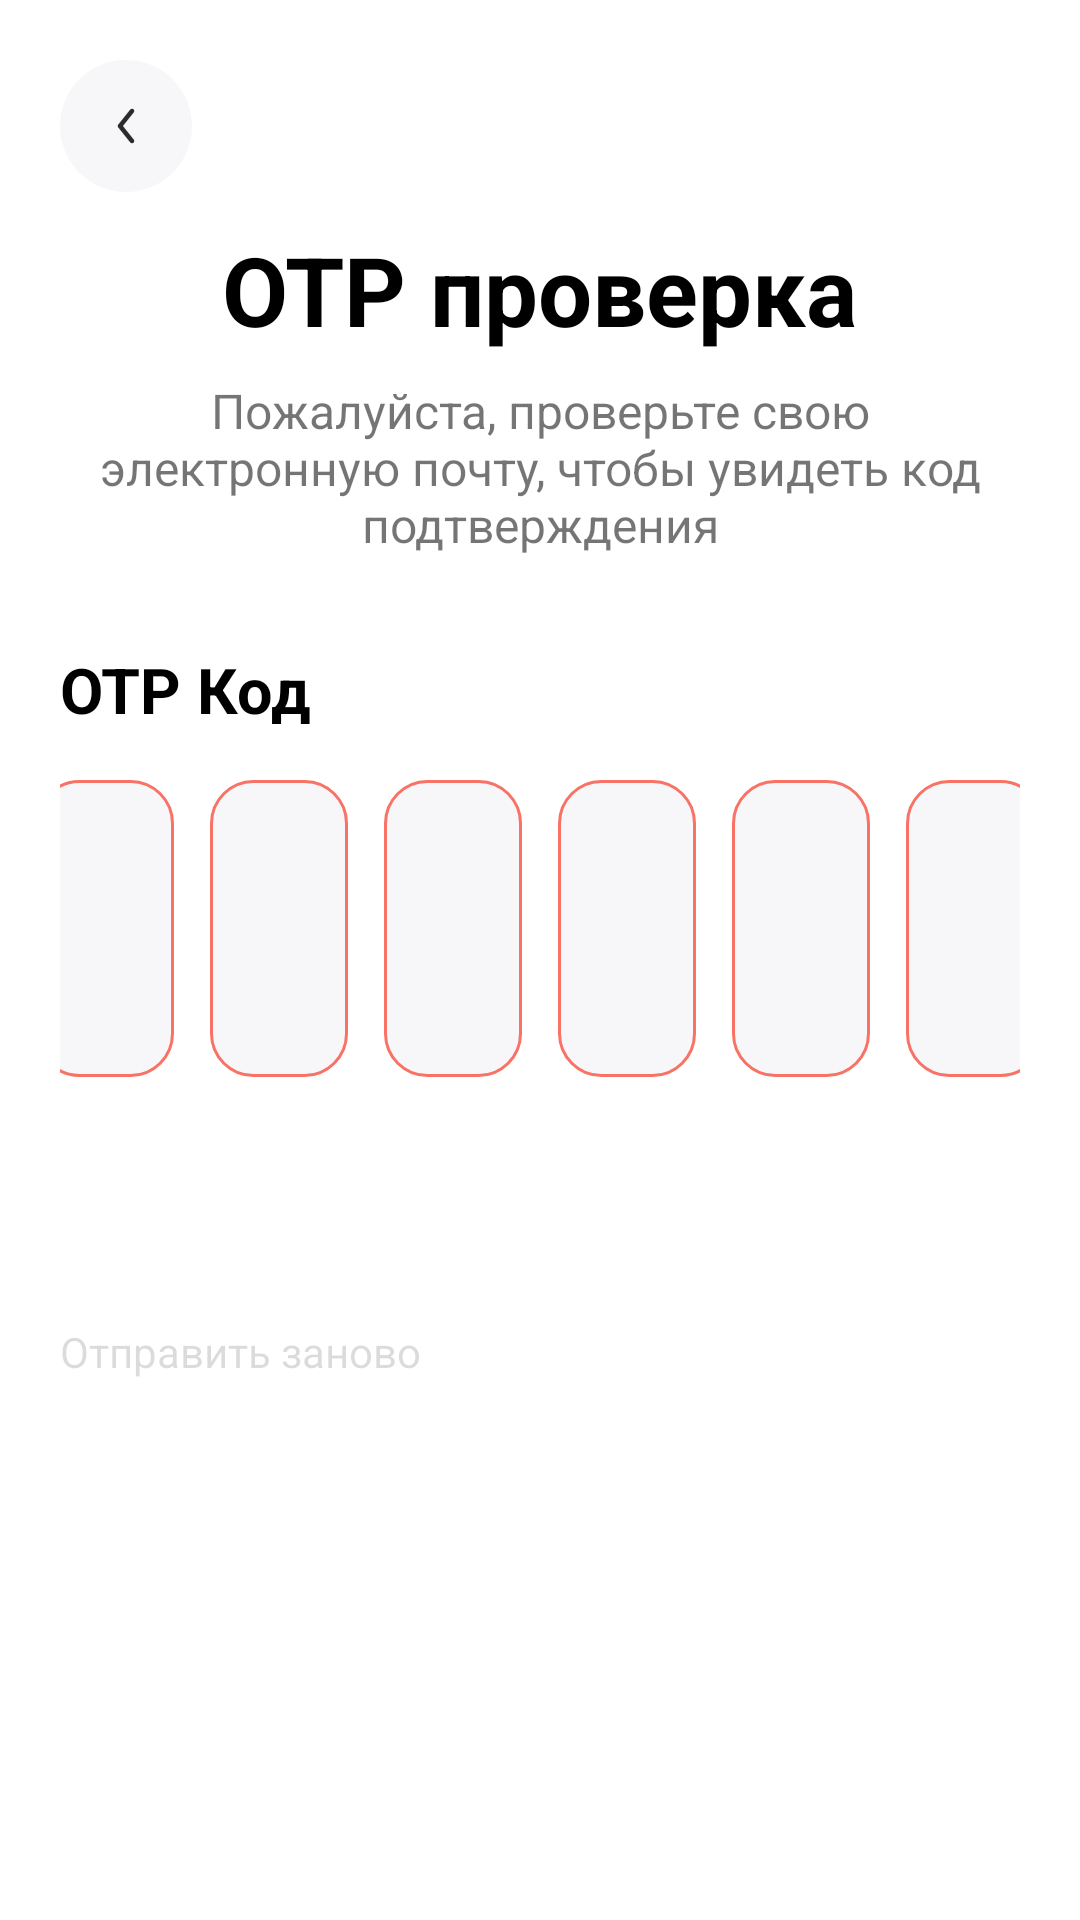

Point at icon controls on the screen. Image size 1080*1920, points as (x=x, y=y).
back: (x=126, y=126)
